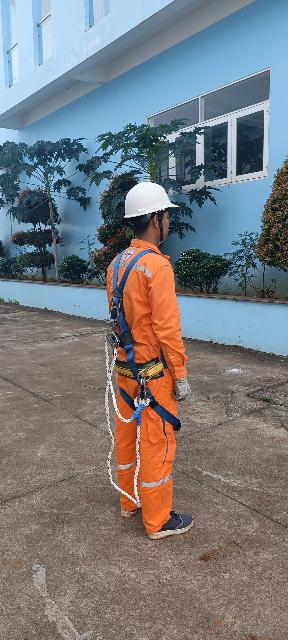gloves: (141, 503, 198, 544), (166, 371, 211, 407), (102, 482, 145, 518)
harness: (104, 347, 172, 377)
helmet: (120, 178, 181, 227)
